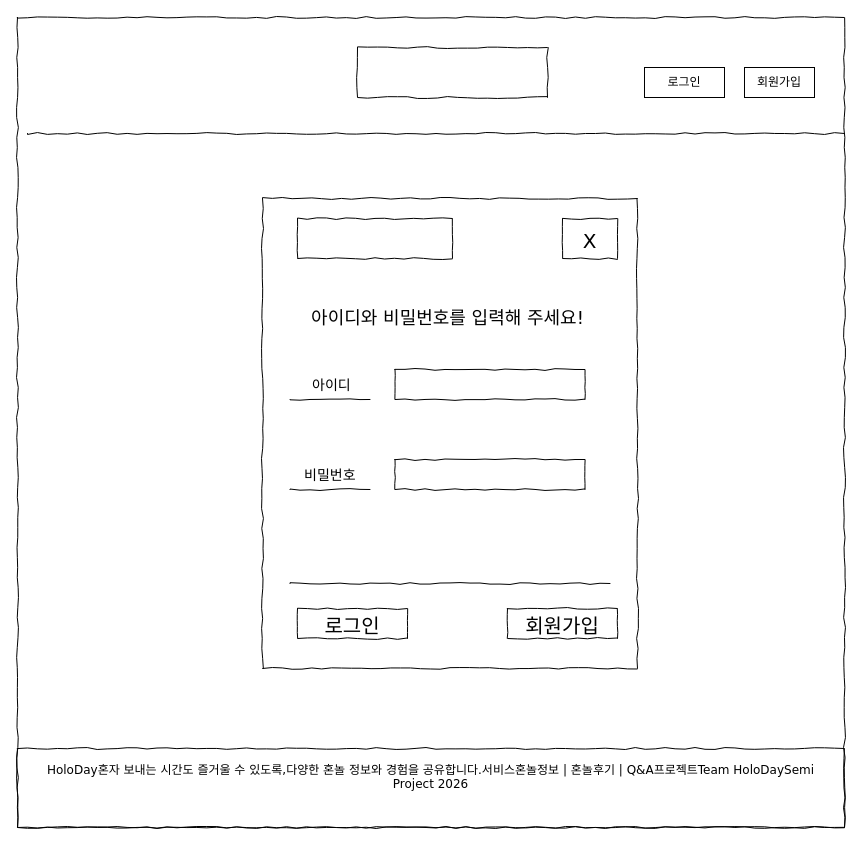
Image size: 862x845. Some labels were removed from this diagram. The shapes that lost their labels are listed below. From the top down, each one's centre as x and y in pixels, then its label:
At (452,72): "HOLO".
At (374,238): "LOGIN".
